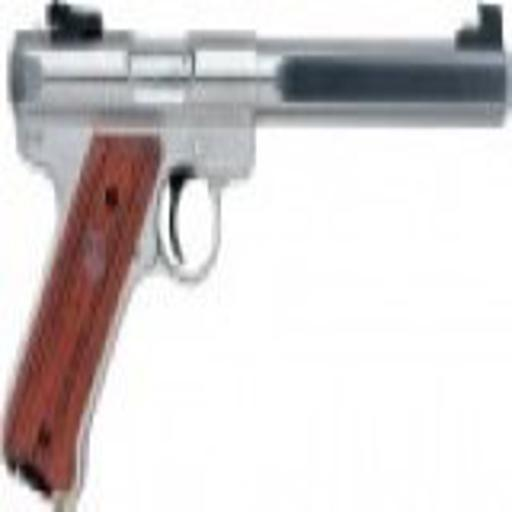Handgun: (2, 3, 511, 506)
